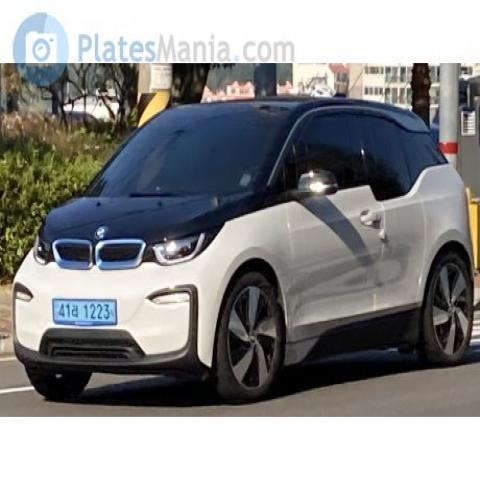LP: (41, 290, 127, 334)
